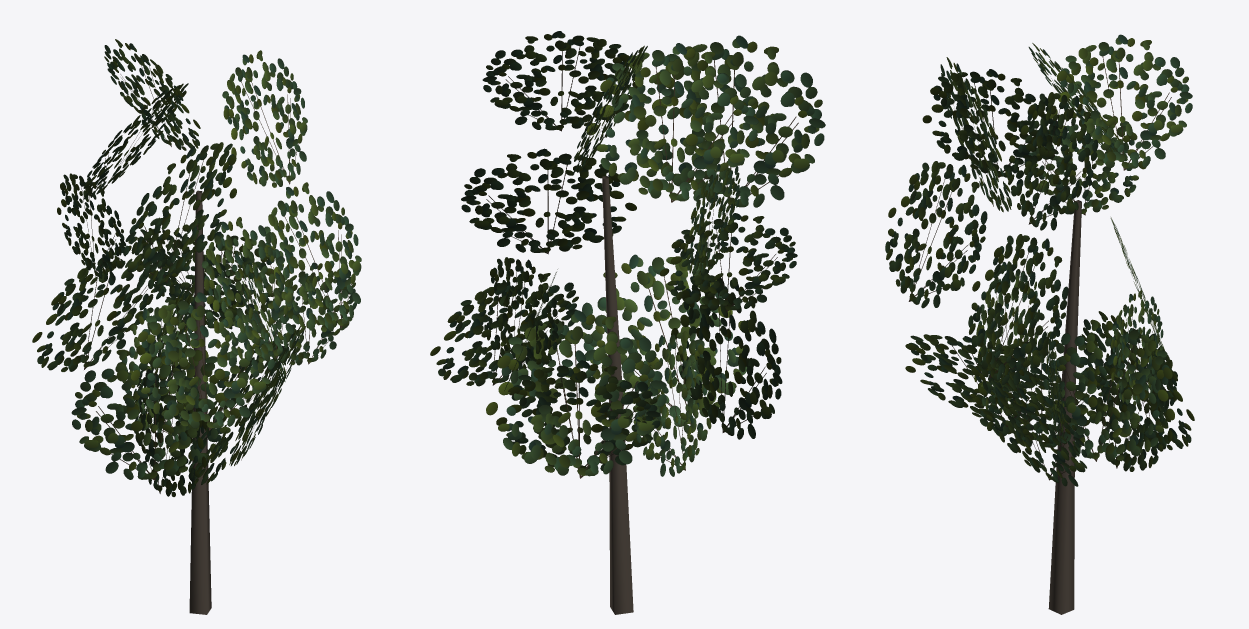
Rendered from tpl_rec_bank_dike_alder_lo.glb.
3 renders of one model, left to right at view 1: azimuth 30°, elevation 25°; view 2: azimuth 150°, elevation 25°; view 3: azimuth 270°, elevation 25°, orthographic. The views are drawn at different scales.
Parts seen in each view (by area): view 1: tpl_rec_bank_dike_alder_lo; view 2: tpl_rec_bank_dike_alder_lo; view 3: tpl_rec_bank_dike_alder_lo.
Boxes of the visible parts, x1,y1,x2,y2 form: tpl_rec_bank_dike_alder_lo: (32, 39, 361, 614); tpl_rec_bank_dike_alder_lo: (430, 31, 825, 614); tpl_rec_bank_dike_alder_lo: (885, 34, 1194, 614).
Bounding box in the file's own units: 10.2 × 16.39 × 9.88.
2 materials, 1 textured.
